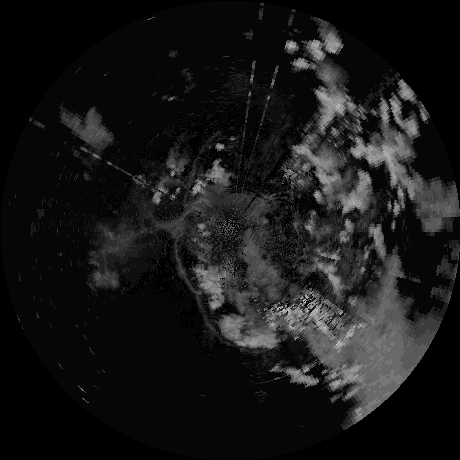frontgust: (194, 295, 238, 346), (173, 204, 197, 294), (184, 145, 204, 201)
